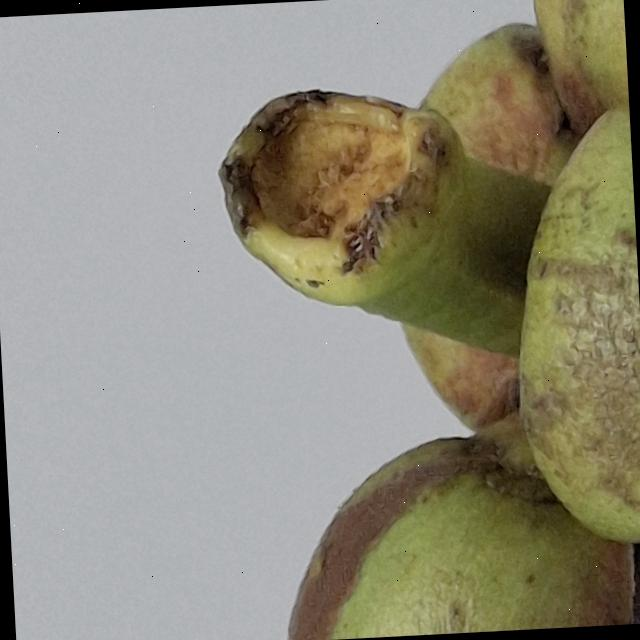mangosteen: (83, 0, 640, 640)
